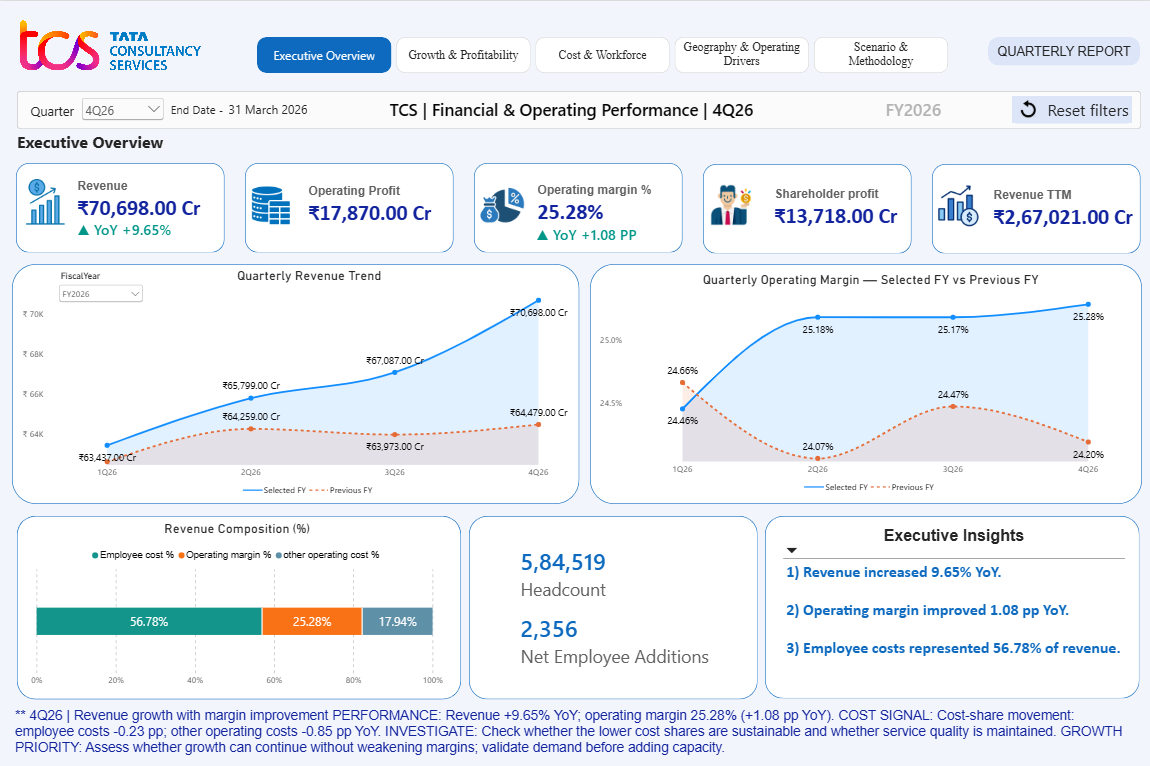

This screenshot's page, from the dashboard's own definition file:
{"tool":"powerbi","page":{"name":"Executive Overview","canvas":[1920,1280],"ordinal":0},"visuals":[{"type":"group","id":"g1","title":"Group 2","box":[27.3,269.8,1874.3,151.8],"z":0},{"type":"shape","box":[409,270.4,347.5,149.3],"z":0,"group":"g1"},{"type":"shape","box":[29.1,149.5,1873.3,63.3],"z":1000},{"type":"shape","box":[27.3,269.8,347.5,149.3],"z":1000,"group":"g1"},{"type":"image","box":[20,0,328.3,148.3],"z":2000},{"type":"shape","box":[1646.1,60.7,253.5,47.6],"z":2000,"group":"g3"},{"type":"shape","box":[790.7,270.2,347.5,149.3],"z":2000,"group":"g1"},{"type":"pageNavigator","box":[429.1,60.7,1154.6,60.3],"z":3000},{"type":"shape","box":[1554.1,272.3,347.5,149.3],"z":3000,"group":"g1"},{"type":"textbox","box":[1629.6,73.7,286.5,34.5],"z":4000,"group":"g3"},{"type":"slicer","fields":{"Values":["DimQuarter.PERIOD"]},"box":[131.5,157.5,145.9,54.9],"z":4000},{"type":"shape","box":[1172.4,272.3,347.5,149.3],"z":4000,"group":"g1"},{"type":"textbox","box":[49.1,167.6,83.3,34.5],"z":5000},{"type":"actionButton","box":[1687.4,157.7,199.1,46.1],"z":6000},{"type":"group","id":"g2","title":"Group 1","box":[1687.1,158.2,199.6,45.7],"z":7000},{"type":"textbox","box":[1687.1,158.2,199.6,45.7],"z":8000,"group":"g2"},{"type":"textbox","box":[29.1,217.2,258.3,83.3],"z":8000},{"type":"image","box":[1694.1,165.6,40.9,29.1],"z":9000,"group":"g2"},{"type":"cardVisual","fields":{"Data":["_m.revenue"]},"box":[113.7,258,340,150],"z":9000},{"type":"cardVisual","fields":{"Data":["_m.Revenue YoY Label"]},"box":[113.7,348.4,243.3,61.4],"z":10000},{"type":"image","box":[35.9,297,77.5,76.1],"z":11000},{"type":"cardVisual","fields":{"Data":["_m.Operating profit"]},"box":[498.6,266.8,340,150],"z":12000},{"type":"image","box":[414.9,302.2,72.5,77.5],"z":13000},{"type":"cardVisual","fields":{"Data":["_m.Operating margin %"]},"box":[880.5,265.3,340,150],"z":14000},{"type":"cardVisual","fields":{"Data":["_m.Operating margin pp Label"]},"box":[877.6,313.4,305.6,150],"z":15000},{"type":"image","box":[796.6,300.5,81.2,81.9],"z":16000},{"type":"cardVisual","fields":{"Data":["_m.Shareholder profit"]},"box":[1274.2,271.2,340,150],"z":17000},{"type":"image","box":[1175.8,292.2,88.2,97.3],"z":18000},{"type":"cardVisual","fields":{"Data":["_m.Revenue TTM"]},"box":[1640.1,272.6,280,150],"z":19000},{"type":"image","box":[1557.6,304.8,78.2,72.7],"z":20000},{"type":"shape","box":[20,438.9,945.6,400],"z":21000},{"type":"shape","box":[983.3,438.9,920,400],"z":22000},{"type":"shape","box":[1275.7,858.6,624.3,304.3],"z":23000},{"type":"shape","box":[28.1,858.1,740,305.6],"z":24000},{"type":"shape","box":[782.2,857.8,481.1,305.6],"z":25000},{"type":"cardVisual","fields":{"Data":["_m.Overview Title"]},"box":[632.8,148.8,752.7,63.6],"z":26000},{"type":"group","id":"g3","title":"Group 3","box":[1629.6,60.7,286,47.7],"z":27000},{"type":"cardVisual","fields":{"Data":["Min(DimQuarter.QuarterEndDate)"]},"box":[365,148.1,206.7,63.3],"z":28000},{"type":"textbox","box":[278.3,168.3,100,34.4],"z":29000},{"type":"lineChart","title":"Quarterly Revenue Trend","fields":{"Category":["DimQuarter.PERIOD"],"Y":["_m.revenue","_m.Revenue previous year quarter"]},"box":[21.1,432.2,987.8,414.4],"z":30000},{"type":"slicer","fields":{"Values":["DimQuarter.FiscalYear"]},"box":[93.3,450,150.2,70.8],"z":31000},{"type":"lineChart","title":"Quarterly Operating Margin — Selected FY vs Previous FY","fields":{"Y":["_m.Operating margin %","_m.Operating Margin PY"],"Category":["DimQuarter.PERIOD"]},"box":[983.3,438.9,936.7,402.2],"z":32000},{"type":"hundredPercentStackedBarChart","title":"Revenue Composition (%)","fields":{"Y":["_m.Employee cost %","_m.Operating margin %","_m.other operating cost %"]},"box":[35.6,853.8,720,310],"z":33000},{"type":"cardVisual","fields":{"Data":["_m.AutoFilterYear"]},"box":[1459.3,132.7,170,93.3],"z":34000},{"type":"cardVisual","fields":{"Data":["_m.Headcount End","_m.Net Employee Additions"]},"box":[851.1,897.8,401.1,222.2],"z":35000},{"type":"tableEx","fields":{"Values":["_m.Executive Insights"]},"box":[1288.3,858.3,628.3,305],"z":36000},{"type":"textbox","box":[25,1176.7,1868.3,91.7],"z":37000}]}

Visuals, with their boxes in screenshot pixels (x1, y1, x2, y2), scaled from the page's 1920x1280 canvas onto the 1150x766 screenshot:
"Group 2" group: [x1=16, y1=161, x2=1139, y2=252]
shape: [x1=245, y1=162, x2=453, y2=251]
shape: [x1=17, y1=89, x2=1139, y2=127]
shape: [x1=16, y1=161, x2=224, y2=251]
image: [x1=12, y1=0, x2=209, y2=89]
shape: [x1=986, y1=36, x2=1138, y2=65]
shape: [x1=474, y1=162, x2=682, y2=251]
pageNavigator: [x1=257, y1=36, x2=949, y2=72]
shape: [x1=931, y1=163, x2=1139, y2=252]
textbox: [x1=976, y1=44, x2=1148, y2=65]
slicer - DimQuarter.PERIOD: [x1=79, y1=94, x2=166, y2=127]
shape: [x1=702, y1=163, x2=910, y2=252]
textbox: [x1=29, y1=100, x2=79, y2=121]
actionButton: [x1=1011, y1=94, x2=1130, y2=122]
"Group 1" group: [x1=1011, y1=95, x2=1130, y2=122]
textbox: [x1=1011, y1=95, x2=1130, y2=122]
textbox: [x1=17, y1=130, x2=172, y2=180]
image: [x1=1015, y1=99, x2=1039, y2=117]
cardVisual - _m.revenue: [x1=68, y1=154, x2=272, y2=244]
cardVisual - _m.Revenue YoY Label: [x1=68, y1=208, x2=214, y2=245]
image: [x1=22, y1=178, x2=68, y2=223]
cardVisual - _m.Operating profit: [x1=299, y1=160, x2=502, y2=249]
image: [x1=249, y1=181, x2=292, y2=227]
cardVisual - _m.Operating margin %: [x1=527, y1=159, x2=731, y2=249]
cardVisual - _m.Operating margin pp Label: [x1=526, y1=188, x2=709, y2=277]
image: [x1=477, y1=180, x2=526, y2=229]
cardVisual - _m.Shareholder profit: [x1=763, y1=162, x2=967, y2=252]
image: [x1=704, y1=175, x2=757, y2=233]
cardVisual - _m.Revenue TTM: [x1=982, y1=163, x2=1149, y2=253]
image: [x1=933, y1=182, x2=980, y2=226]
shape: [x1=12, y1=263, x2=578, y2=502]
shape: [x1=589, y1=263, x2=1140, y2=502]
shape: [x1=764, y1=514, x2=1138, y2=696]
shape: [x1=17, y1=514, x2=460, y2=696]
shape: [x1=469, y1=513, x2=757, y2=696]
cardVisual - _m.Overview Title: [x1=379, y1=89, x2=830, y2=127]
"Group 3" group: [x1=976, y1=36, x2=1147, y2=65]
cardVisual - Min(DimQuarter.QuarterEndDate): [x1=219, y1=89, x2=342, y2=127]
textbox: [x1=167, y1=101, x2=227, y2=121]
"Quarterly Revenue Trend" lineChart: [x1=13, y1=259, x2=604, y2=507]
slicer - DimQuarter.FiscalYear: [x1=56, y1=269, x2=146, y2=312]
"Quarterly Operating Margin — Selected FY vs Previous FY" lineChart: [x1=589, y1=263, x2=1149, y2=503]
"Revenue Composition (%)" hundredPercentStackedBarChart: [x1=21, y1=511, x2=453, y2=696]
cardVisual - _m.AutoFilterYear: [x1=874, y1=79, x2=976, y2=135]
cardVisual - _m.Headcount End x _m.Net Employee Additions: [x1=510, y1=537, x2=750, y2=670]
tableEx - _m.Executive Insights: [x1=772, y1=514, x2=1148, y2=696]
textbox: [x1=15, y1=704, x2=1134, y2=759]
